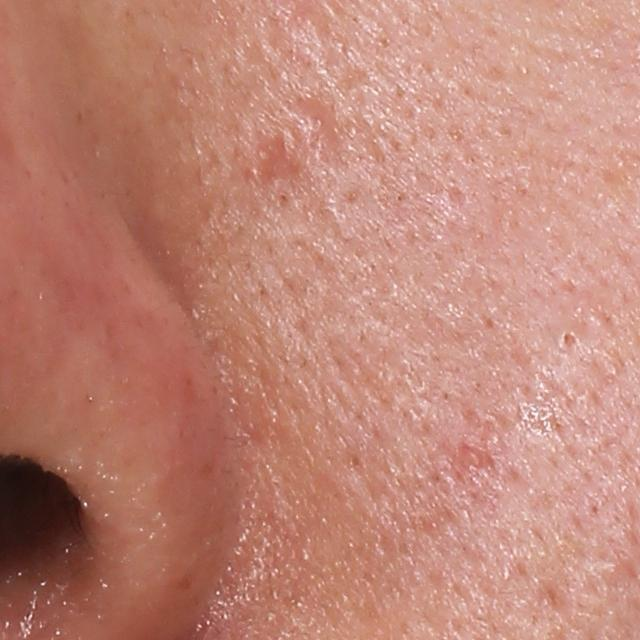atrophic_scar: (297, 88, 348, 167)
comedo: (558, 328, 578, 352)
